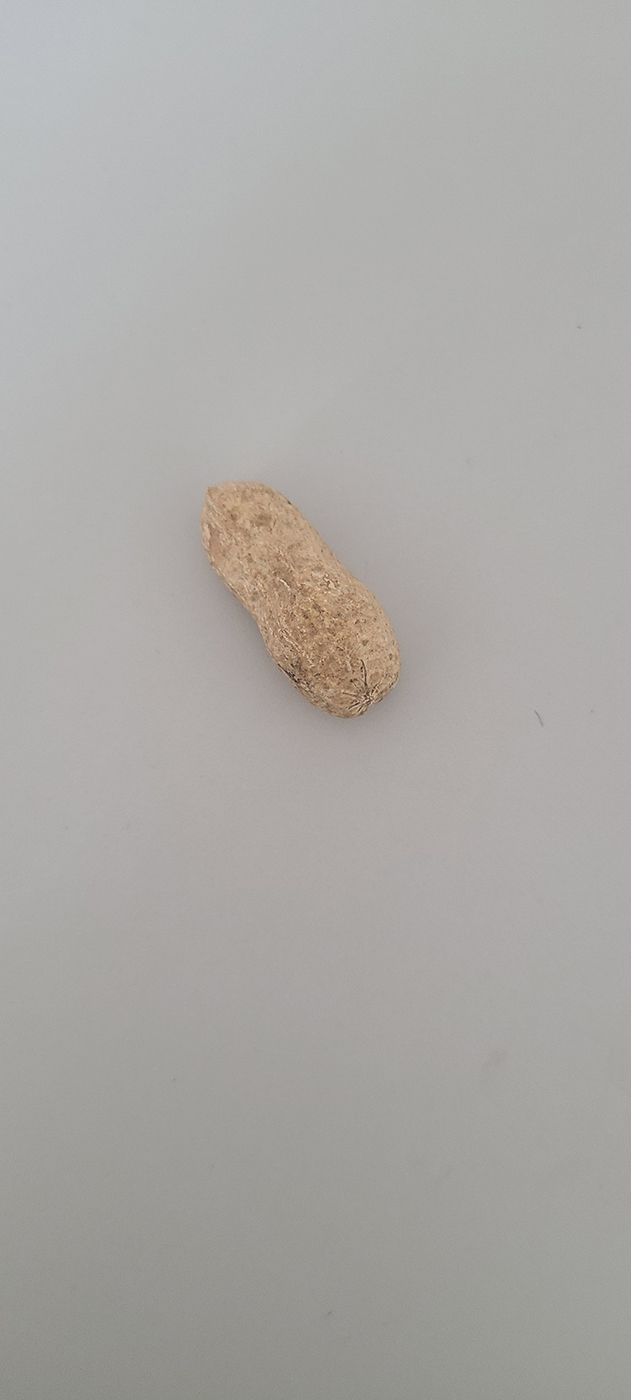h: (199, 477, 401, 718)
